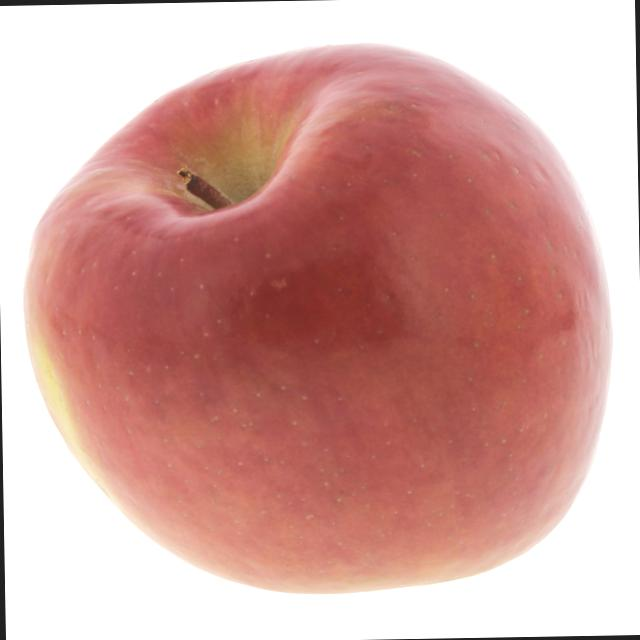apple: (9, 34, 625, 616)
